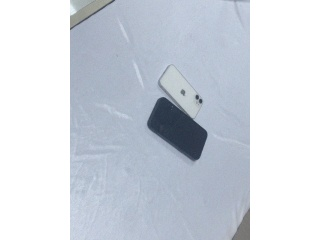phone: (146, 97, 208, 162), (158, 64, 203, 119)
